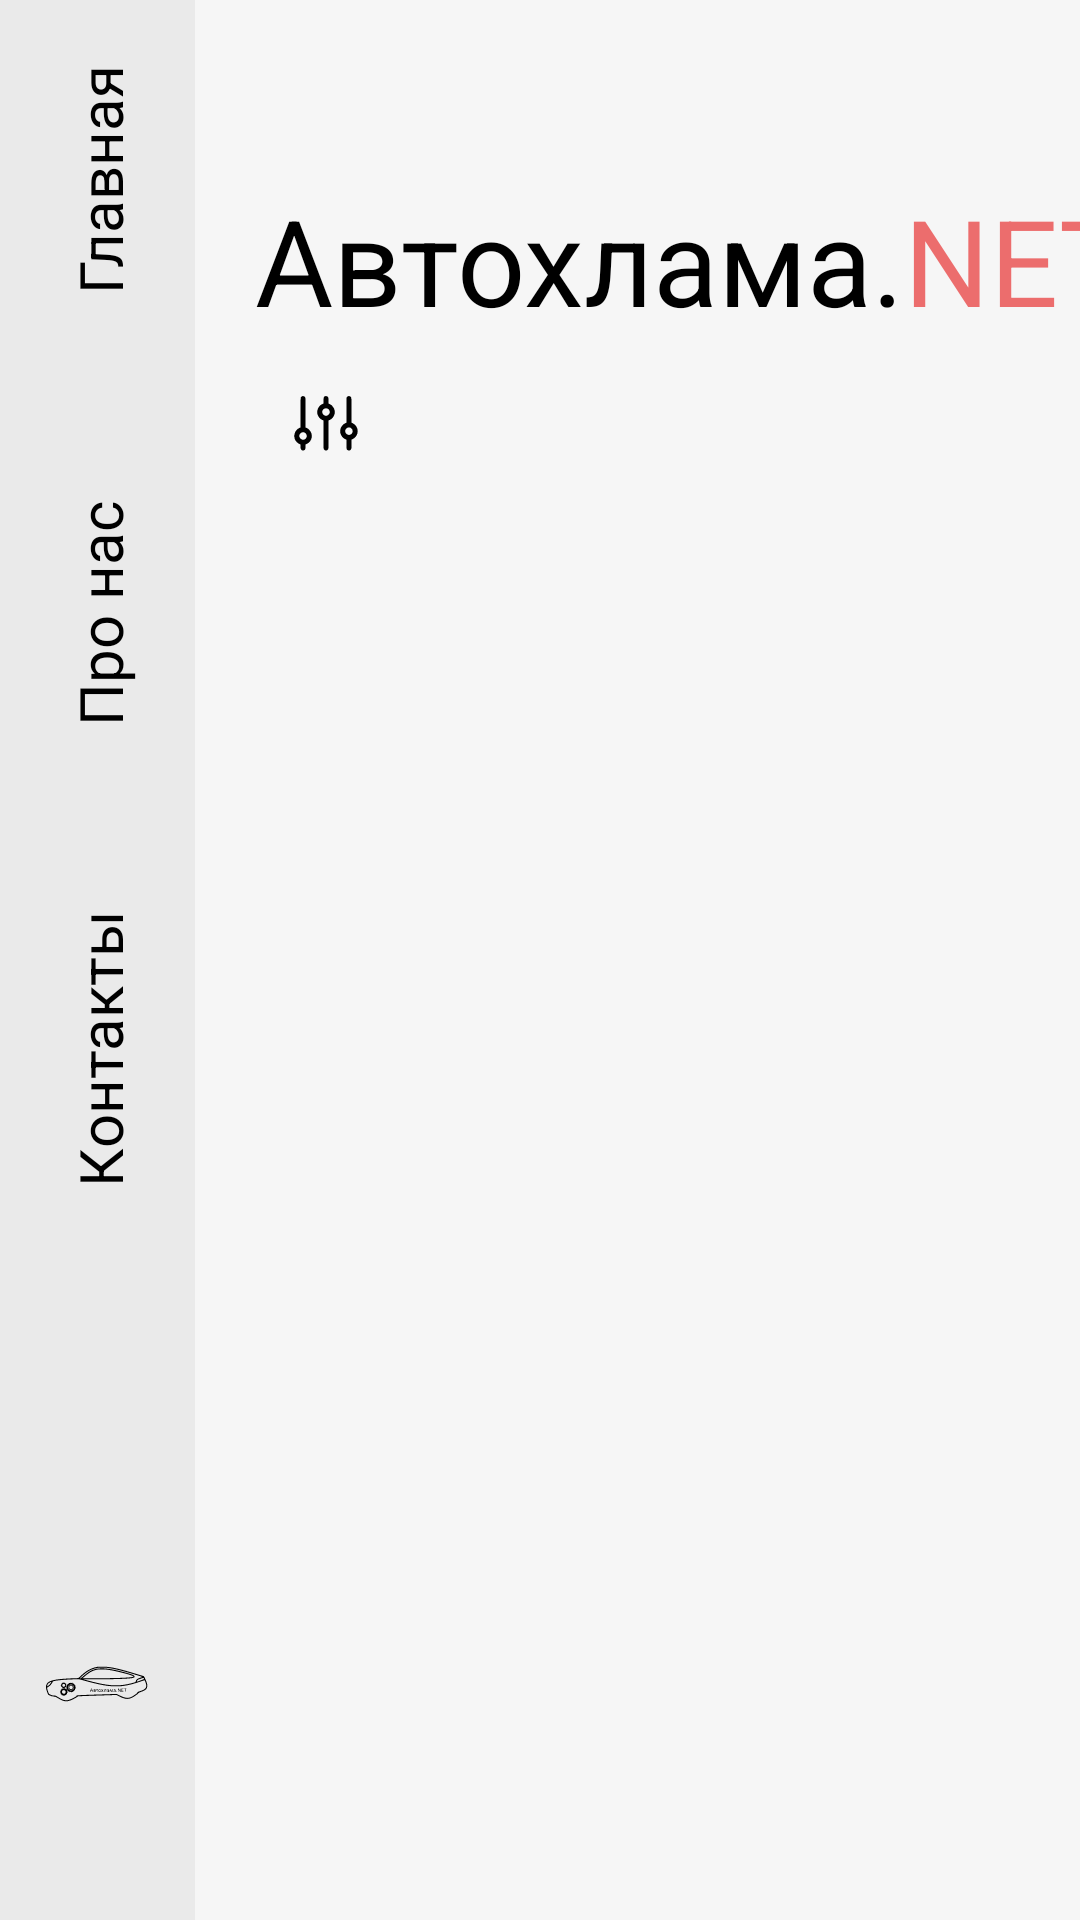

Named icons in this screenshot (1080*1920) and their bounding boxes, [x1=x1, y1=y1, x2=x2, y2=y2]:
vertical settings mixer: [x1=294, y1=396, x2=358, y2=451]
